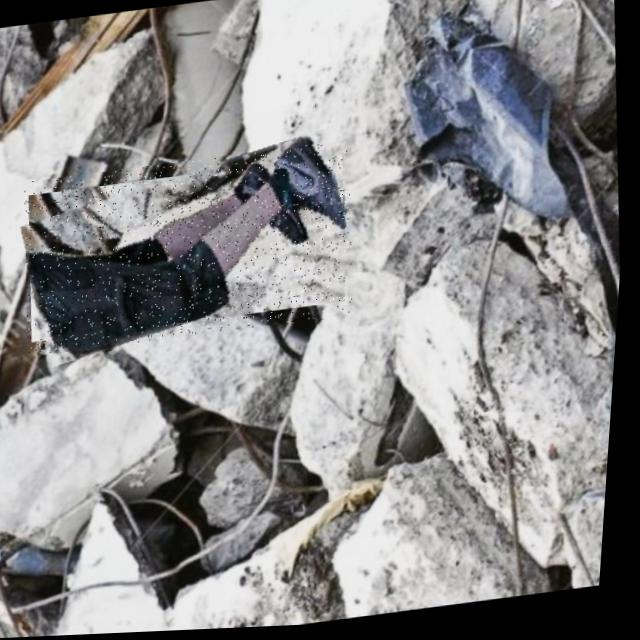Person in Rubble: (18, 140, 366, 356)
